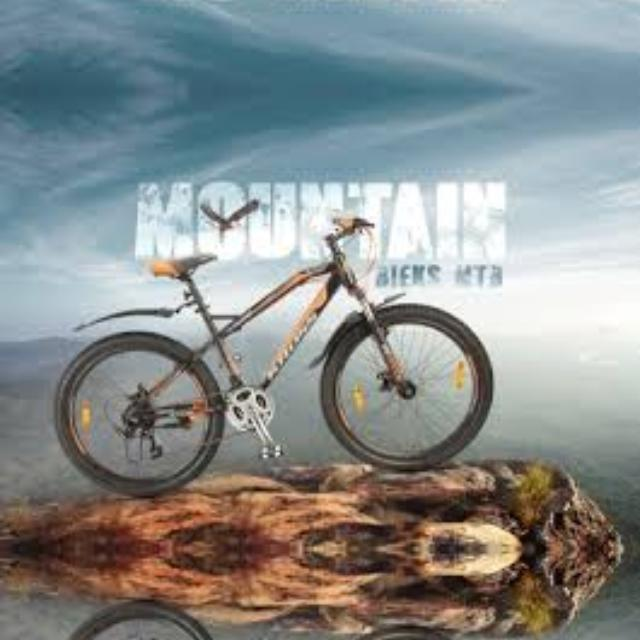obstacle: (55, 207, 503, 488), (55, 608, 503, 640)
